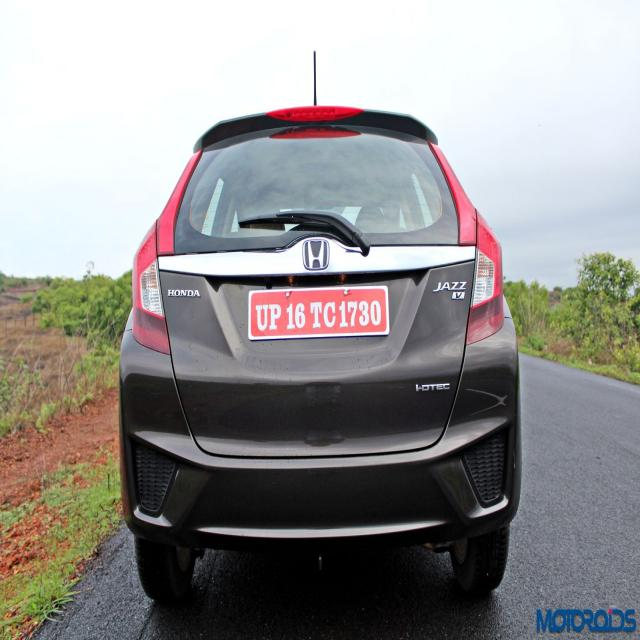Number-Plate: (249, 292, 389, 335)
